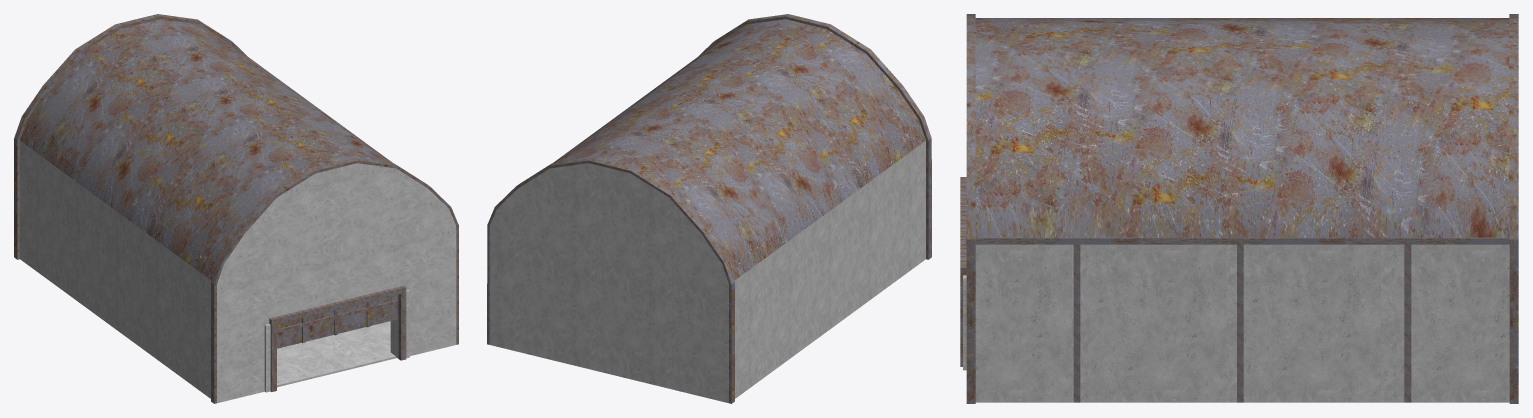
File: Hangar_01.FBX
The picture shows the model from 3 angles, left to right: view 1: azimuth 30°, elevation 25°; view 2: azimuth 150°, elevation 25°; view 3: azimuth 270°, elevation 25°; orthographic projection. The views are drawn at different scales.
Parts seen in each view (by area): view 1: Cylinder002, Box007, Box003; view 2: Cylinder002; view 3: Cylinder002, Box006, Box002, Box005, Box004, Box007.
Boxes of the visible parts, left/top/right/bottom form: Cylinder002: left=14, top=14, right=458, bottom=403; Box007: left=277, top=321, right=396, bottom=387; Box003: left=277, top=295, right=398, bottom=348; Cylinder002: left=487, top=14, right=931, bottom=403; Cylinder002: left=960, top=14, right=1518, bottom=403; Box006: left=966, top=237, right=1509, bottom=244; Box002: left=1404, top=239, right=1411, bottom=402; Box005: left=1073, top=239, right=1080, bottom=402; Box004: left=1237, top=239, right=1243, bottom=402; Box007: left=976, top=402, right=1509, bottom=402.
Bounding box in the file's own units: 156 × 127 × 223.
Materials: 4 (4 with a texture image).
